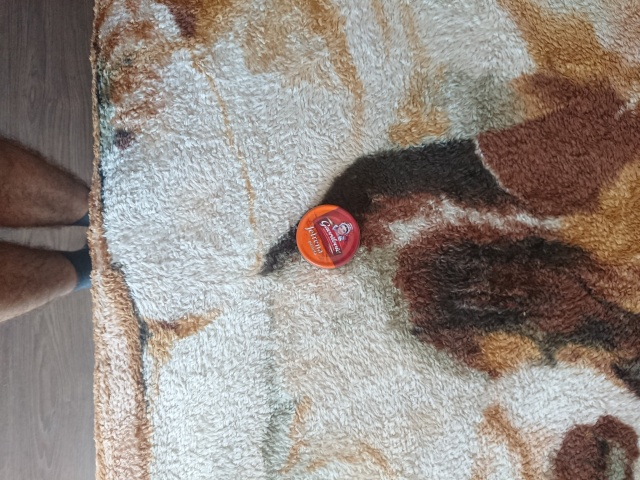Gavrilovic Pork Liver Pate 100g: (294, 202, 363, 269)
